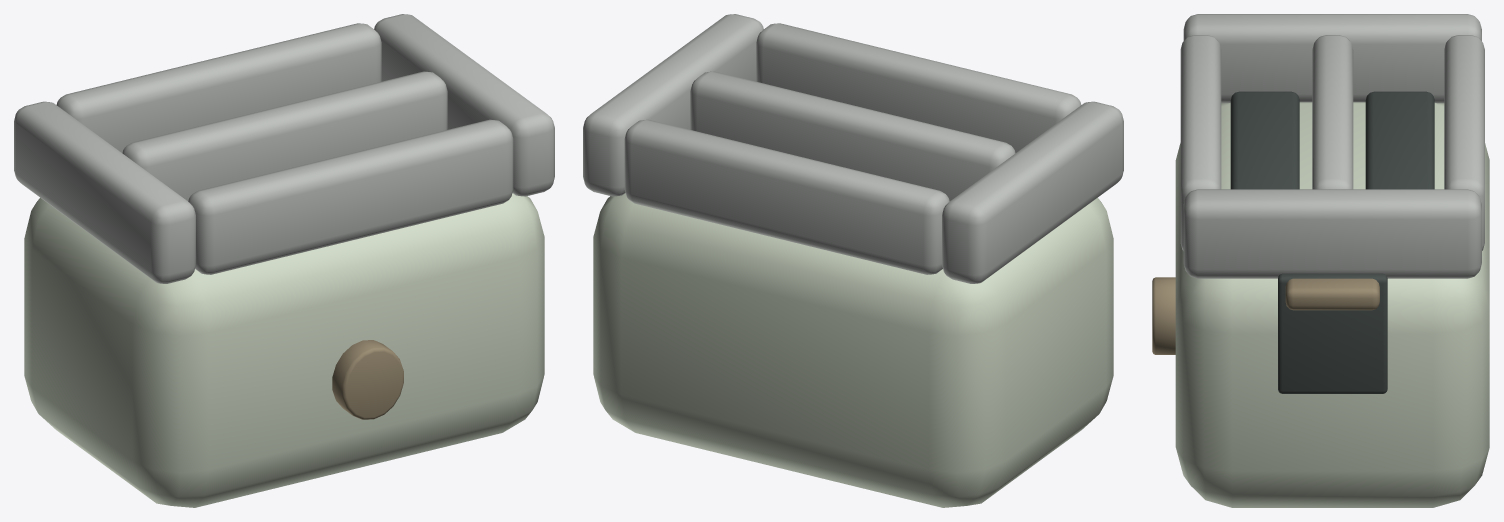
The model's file is two-slot-toaster.glb.
3 renders of one model, left to right at view 1: azimuth 30°, elevation 25°; view 2: azimuth 150°, elevation 25°; view 3: azimuth 270°, elevation 25°, orthographic.
Visible parts, largest first — view 1: two-slot-toaster; view 2: two-slot-toaster; view 3: two-slot-toaster.
Part boxes in pixels (bbox=[...]): two-slot-toaster: bbox=[14, 14, 554, 507]; two-slot-toaster: bbox=[583, 14, 1123, 507]; two-slot-toaster: bbox=[1152, 14, 1489, 507].
Bounding box in the file's own units: 0.3 × 0.21 × 0.2.
